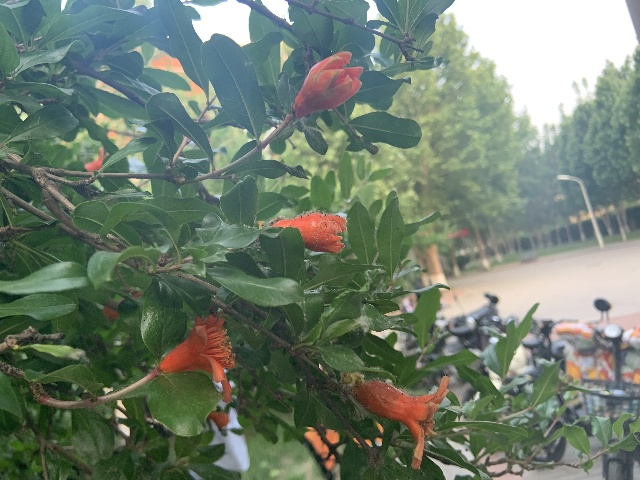flower: (353, 375, 450, 468), (160, 311, 234, 402), (293, 50, 363, 117), (271, 212, 346, 253)
